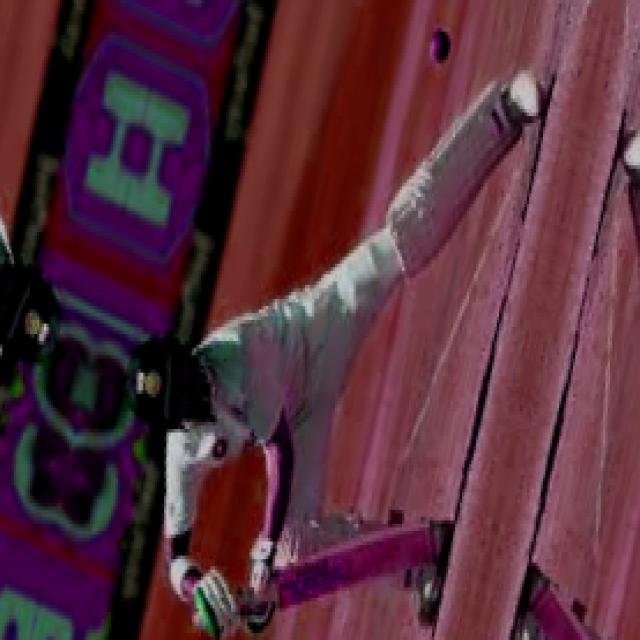toe: (400, 522, 436, 564)
